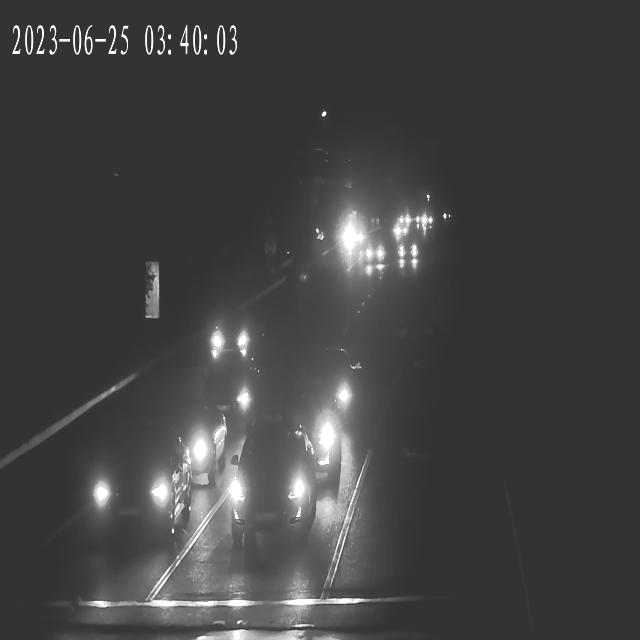Car: (96, 434, 190, 552), (226, 433, 314, 556), (159, 386, 225, 484), (282, 393, 348, 482), (300, 358, 360, 446), (201, 294, 255, 366), (358, 237, 387, 270), (342, 214, 366, 253), (396, 238, 418, 265), (414, 214, 438, 234), (393, 212, 412, 235)
